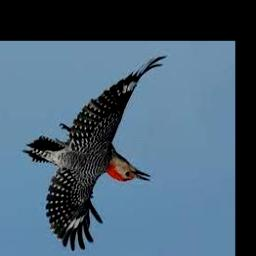Woodpecker: (22, 56, 168, 252)
